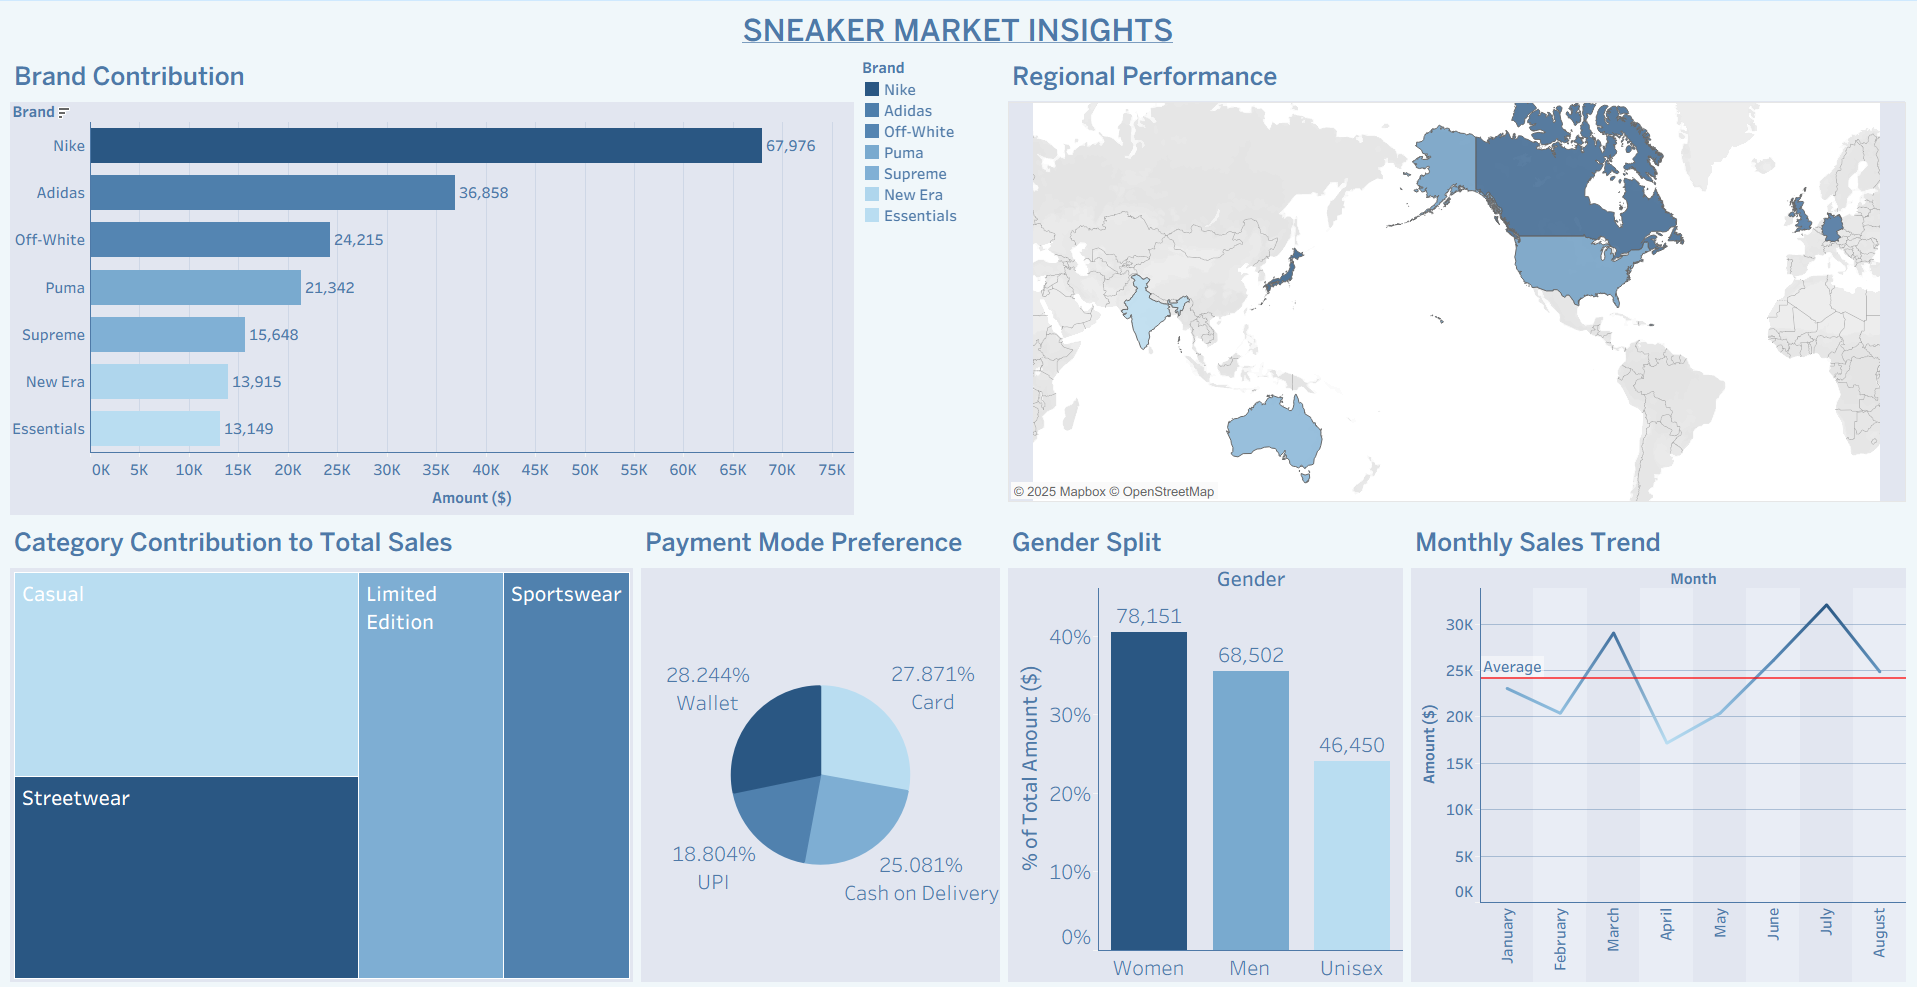

What the dashboard file says about the page in this screenshot:
{"tool":"tableau","page":{"name":"Dashboard 1","canvas":[1000,1000],"units":"permille","ordinal":0},"visuals":[{"type":"title","box":[4.8,9.3,990.4,51.1]},{"type":"worksheet","title":"Brand Contribution","mark":"Automatic","rows":["Brand"],"cols":["Amount ($)"],"box":[4.8,60.4,443.3,465]},{"type":"legend","title":"Brand Contribution","param":"[federated.04uh6a71tf32kq19yl4421a0ai8h].[none:Brand:nk]","box":[448.2,60.4,75.9,465]},{"type":"worksheet","title":"Regional Performance","mark":"Automatic","box":[524.1,60.4,471.1,465]},{"type":"worksheet","title":"Category Contribution to Total Sales","mark":"Automatic","box":[4.8,525.4,328.2,465.3]},{"type":"worksheet","title":"Payment Mode Preference","mark":"Pie","box":[333.1,525.4,191,465.3]},{"type":"worksheet","title":"Gender Split","mark":"Bar","rows":["Amount ($)"],"cols":["Gender"],"box":[524,525.4,209.6,465.3]},{"type":"worksheet","title":"Monthly Sales Trend","mark":"Automatic","rows":["Amount ($)"],"cols":["Date (copy)_1649724894993383424"],"box":[733.6,525.4,261.6,465.3]}]}

Visuals, with their boxes on the dashboard's canvas, which has no fixed pixel size, in thousandths of its width and height (x1, y1, x2, y2). These are canvas units, not pixel positions in the 1917x987 screenshot, which may show the page scaled, cropped or inside an application window:
title: x1=5, y1=9, x2=995, y2=60
"Brand Contribution" worksheet: x1=5, y1=60, x2=448, y2=525
"Brand Contribution" legend: x1=448, y1=60, x2=524, y2=525
"Regional Performance" worksheet: x1=524, y1=60, x2=995, y2=525
"Category Contribution to Total Sales" worksheet: x1=5, y1=525, x2=333, y2=991
"Payment Mode Preference" worksheet (Pie marks): x1=333, y1=525, x2=524, y2=991
"Gender Split" worksheet (Bar marks): x1=524, y1=525, x2=734, y2=991
"Monthly Sales Trend" worksheet: x1=734, y1=525, x2=995, y2=991
